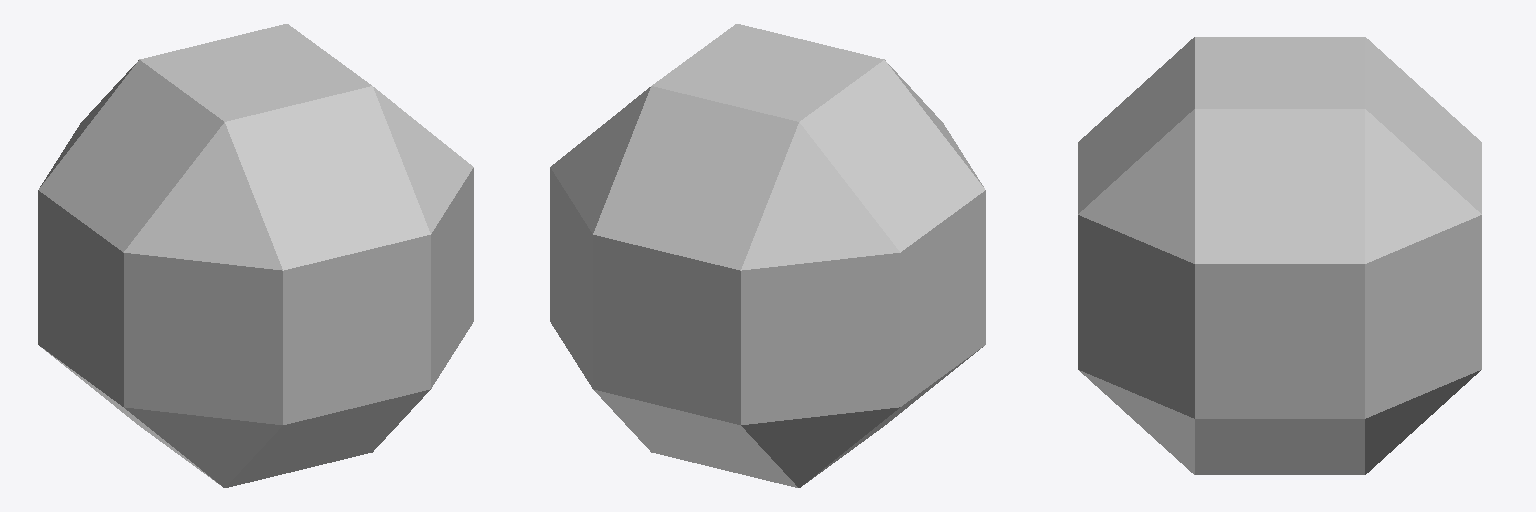
The model's file is MonObjet.obj.
3 renders of one model, left to right at view 1: azimuth 30°, elevation 25°; view 2: azimuth 150°, elevation 25°; view 3: azimuth 270°, elevation 25°, orthographic.
Visible parts, largest first — view 1: Cube; view 2: Cube; view 3: Cube.
Part boxes in pixels (x1,y1,x2,y2): Cube: (38,24,473,487); Cube: (550,24,985,487); Cube: (1078,37,1481,474).
Bounding box in the file's own units: 2 × 2 × 2.